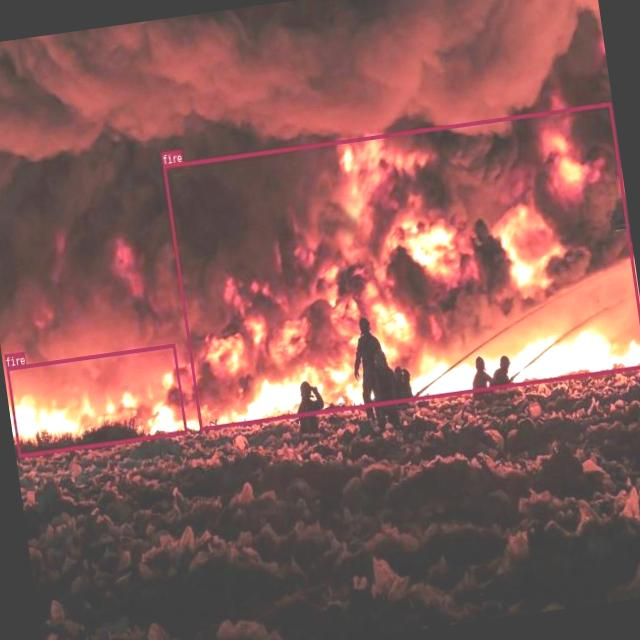fire: (163, 102, 640, 430), (6, 343, 187, 458)
